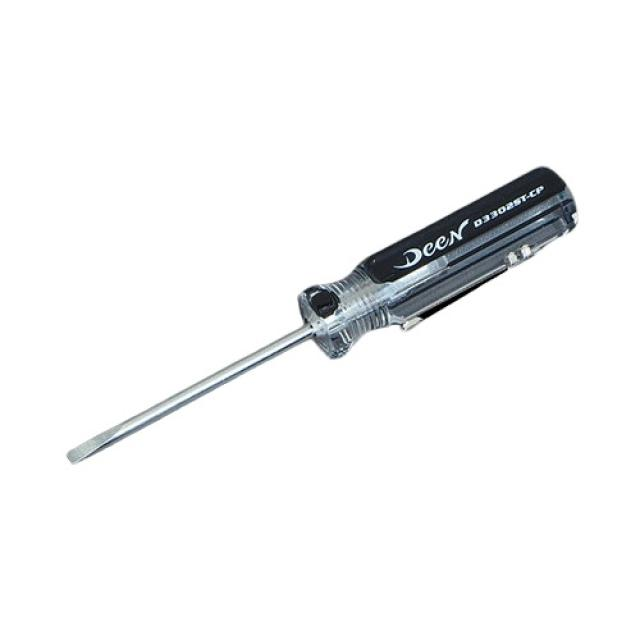Screwdriver: (68, 168, 576, 462)
